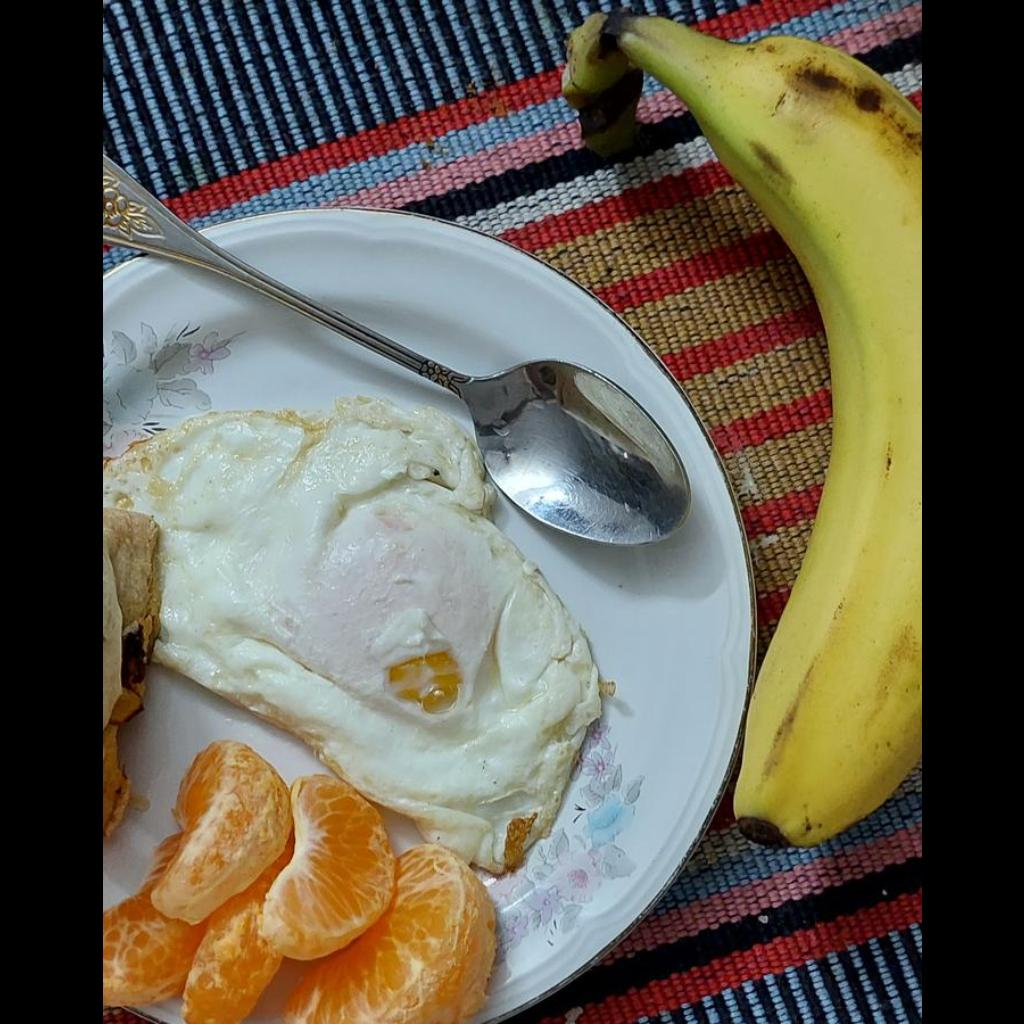banana: (596, 7, 920, 852)
egg-poached: (102, 396, 600, 878)
orange: (102, 735, 499, 1020)
